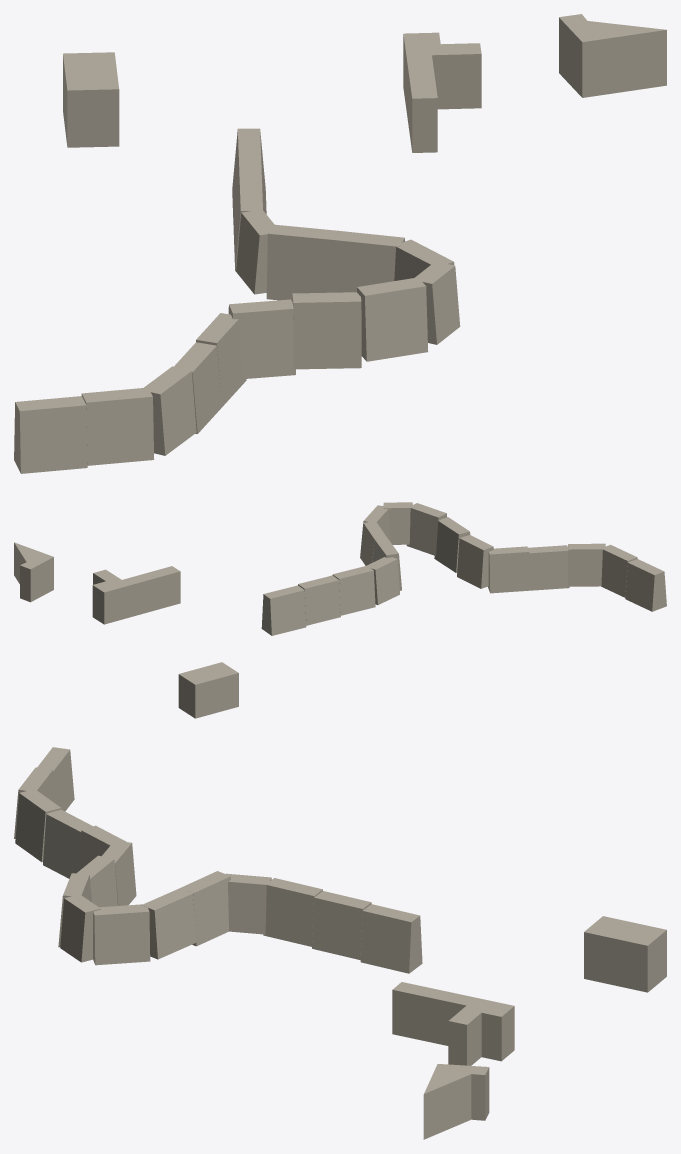
Rendered from bormla_64_31_mid.glb.
3 renders of one model, top to bottom at view 1: azimuth 30°, elevation 25°; view 2: azimuth 150°, elevation 25°; view 3: azimuth 270°, elevation 25°, orthographic. The views are drawn at different scales.
Visible parts, largest first — view 1: geometry_0; view 2: geometry_0; view 3: geometry_0.
Part boxes in pixels (x1=…): geometry_0: x1=14, y1=14, x2=666, y2=473; geometry_0: x1=14, y1=502, x2=666, y2=718; geometry_0: x1=14, y1=747, x2=666, y2=1139.
Size of the model in its own units: 181 by 18.99 by 143.
